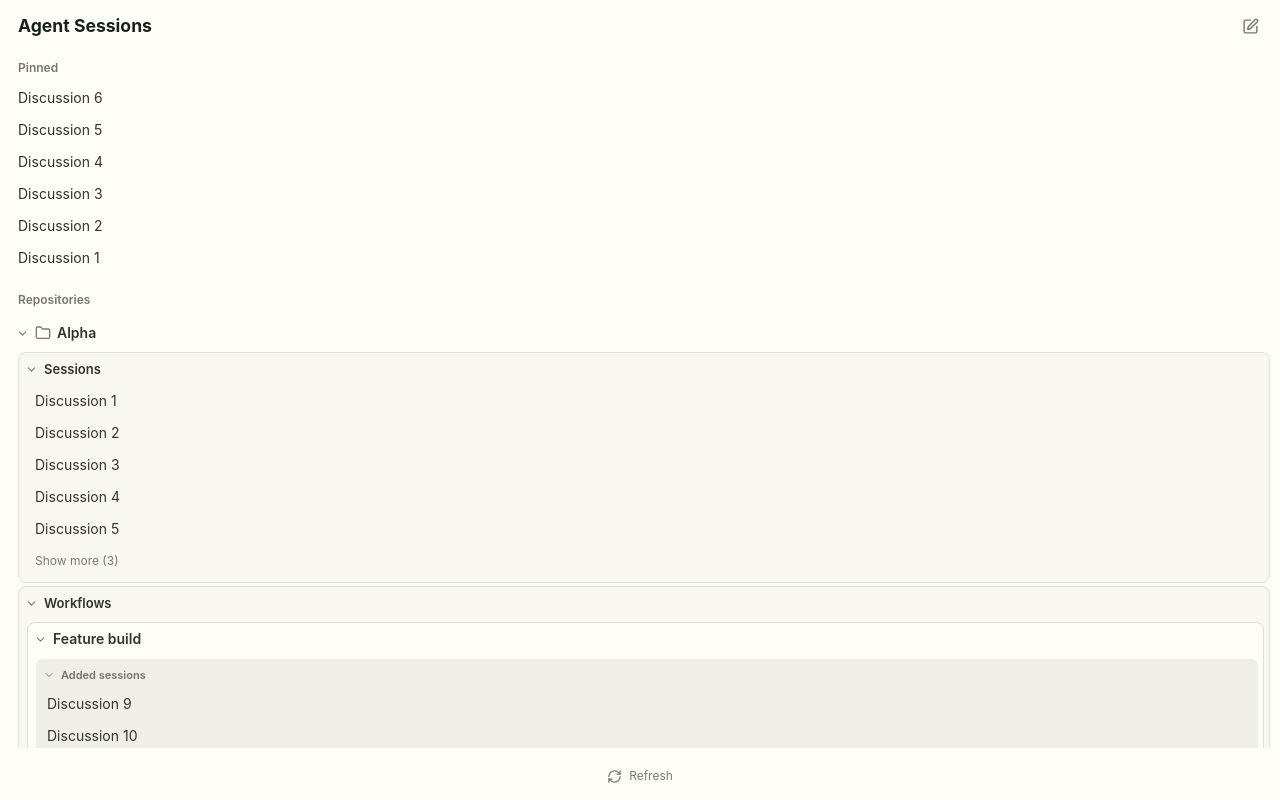
Test case: shares a five-row budget across neutral ownership groups and collapses only the nearest block
Click the list item "Discussion 9": (89, 704) top-left (47, 695), bottom-right (132, 712)
(page scrolled)
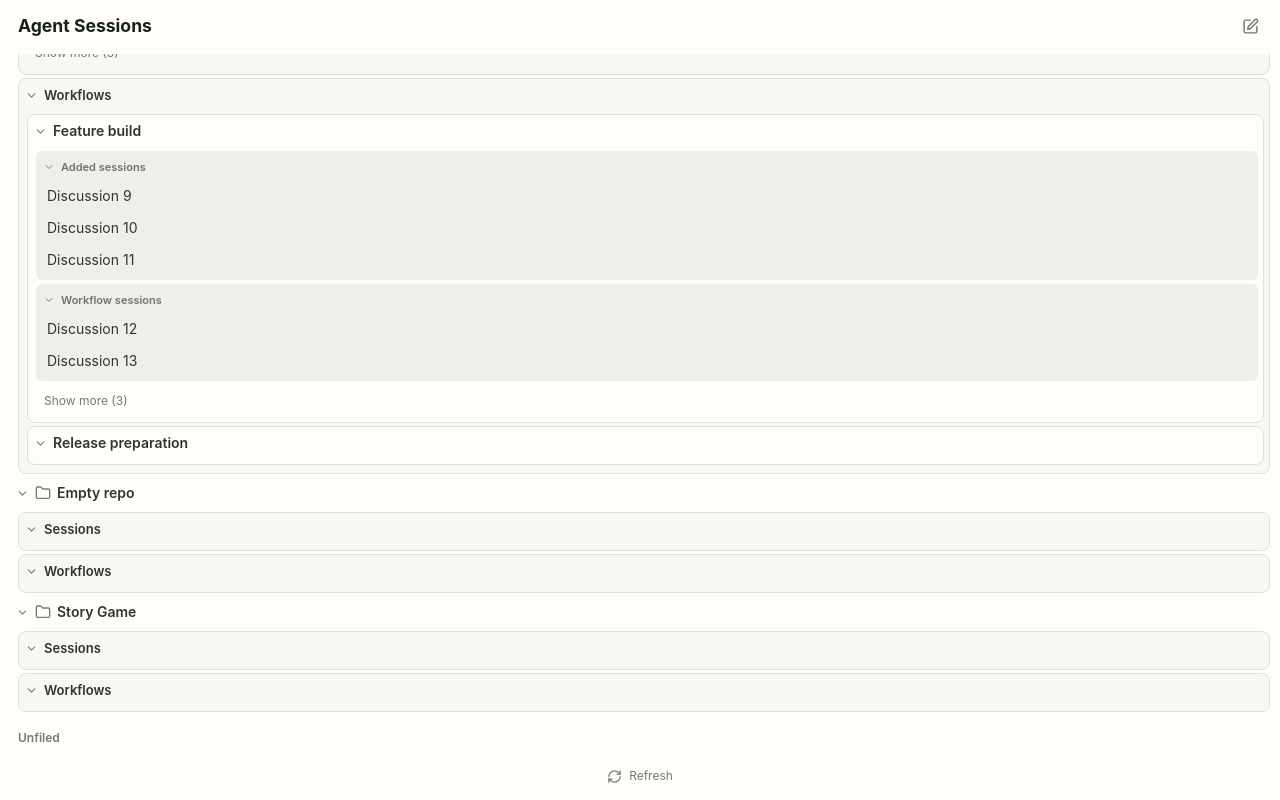
Click the list item with aria-label "Show more in Feature build": (86, 400) top-left (44, 393), bottom-right (128, 408)
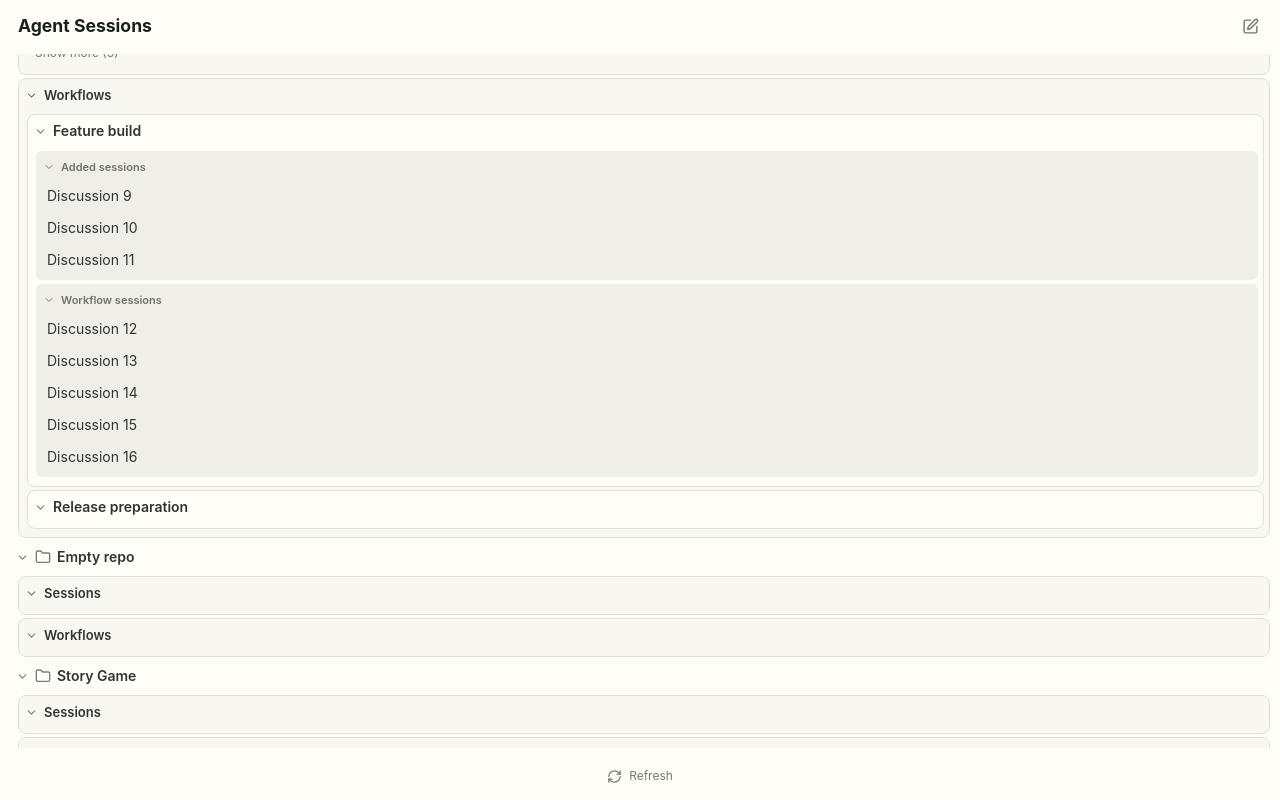
Expected: the number of list items with class "session-entry" is 8
Click the element with class "session-block-content" that starts with "Added sessions": (646, 318) top-left (28, 151), bottom-right (1263, 486)
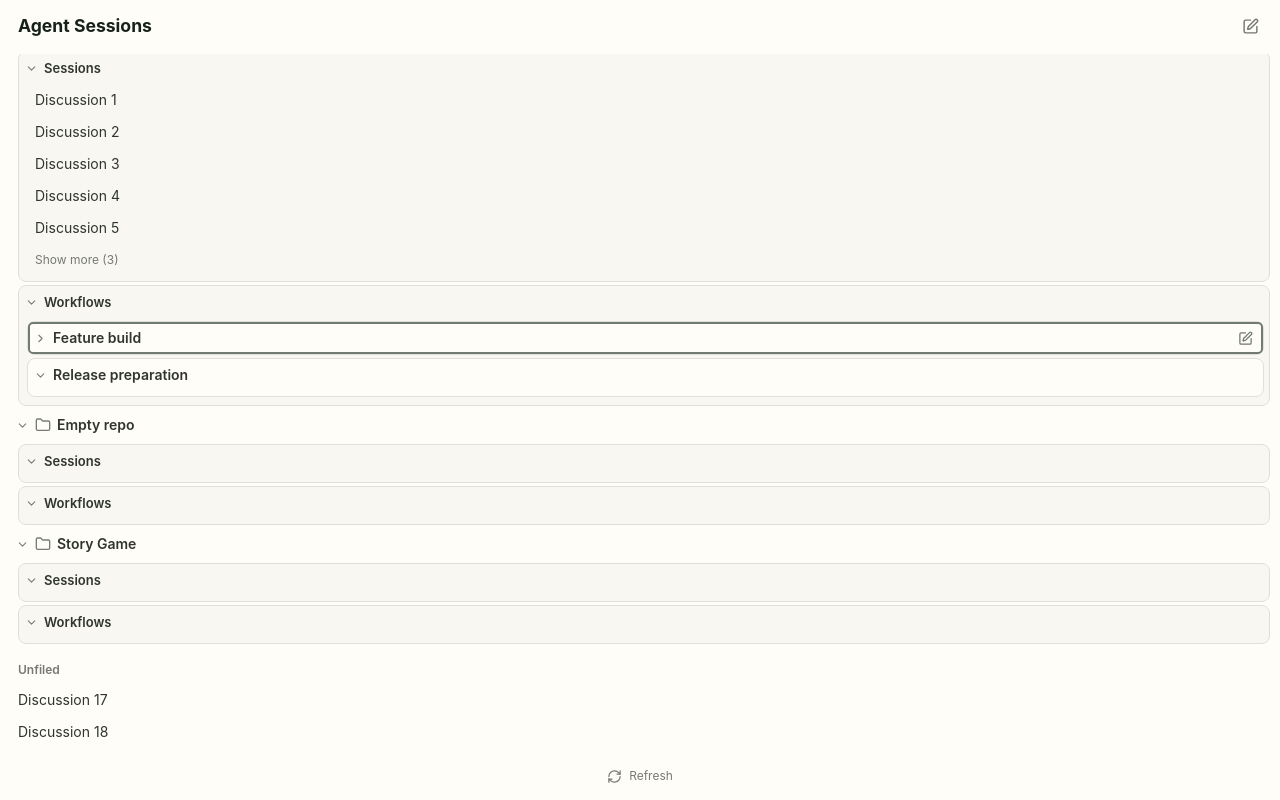
Expected: the list item "Feature build" is collapsed
Click the list item "Feature build": (97, 338) top-left (28, 322), bottom-right (1263, 354)
(page scrolled)
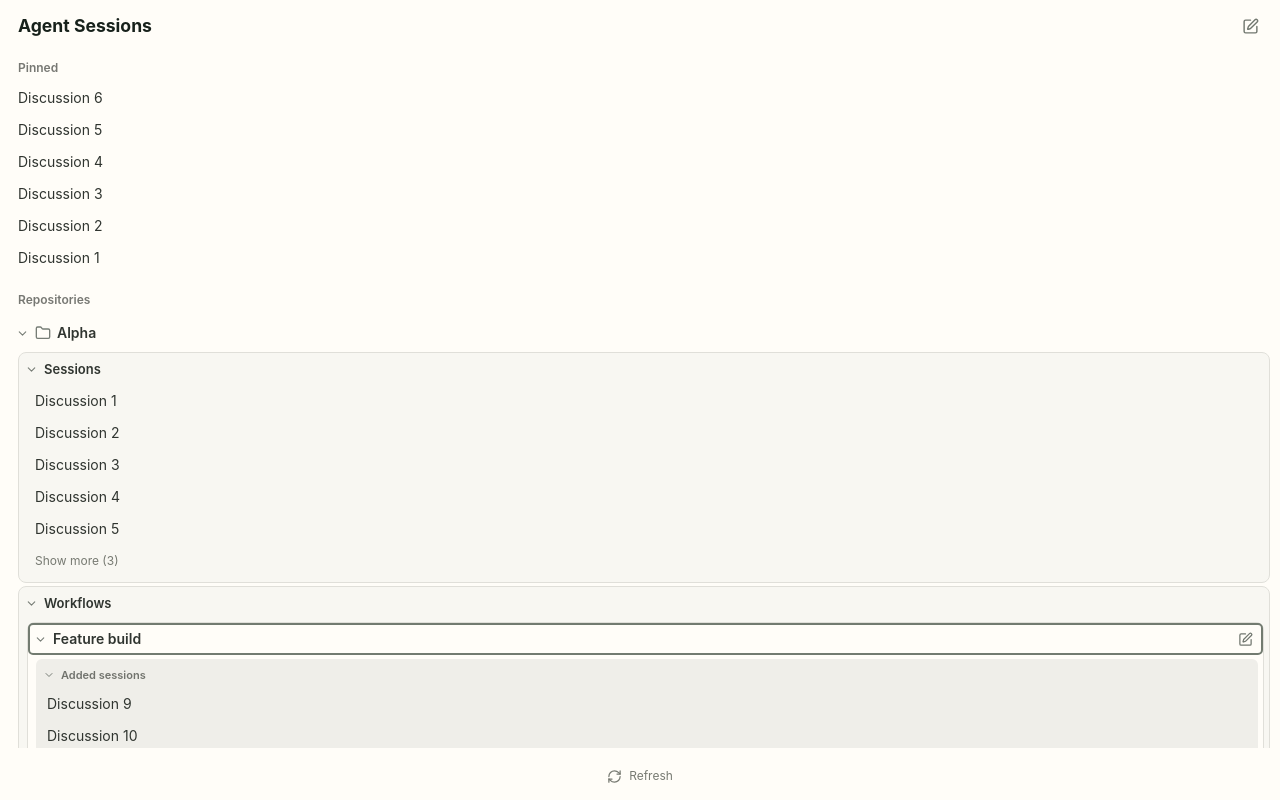
Click the list item "Sessions": (63, 369) top-left (25, 361), bottom-right (101, 377)
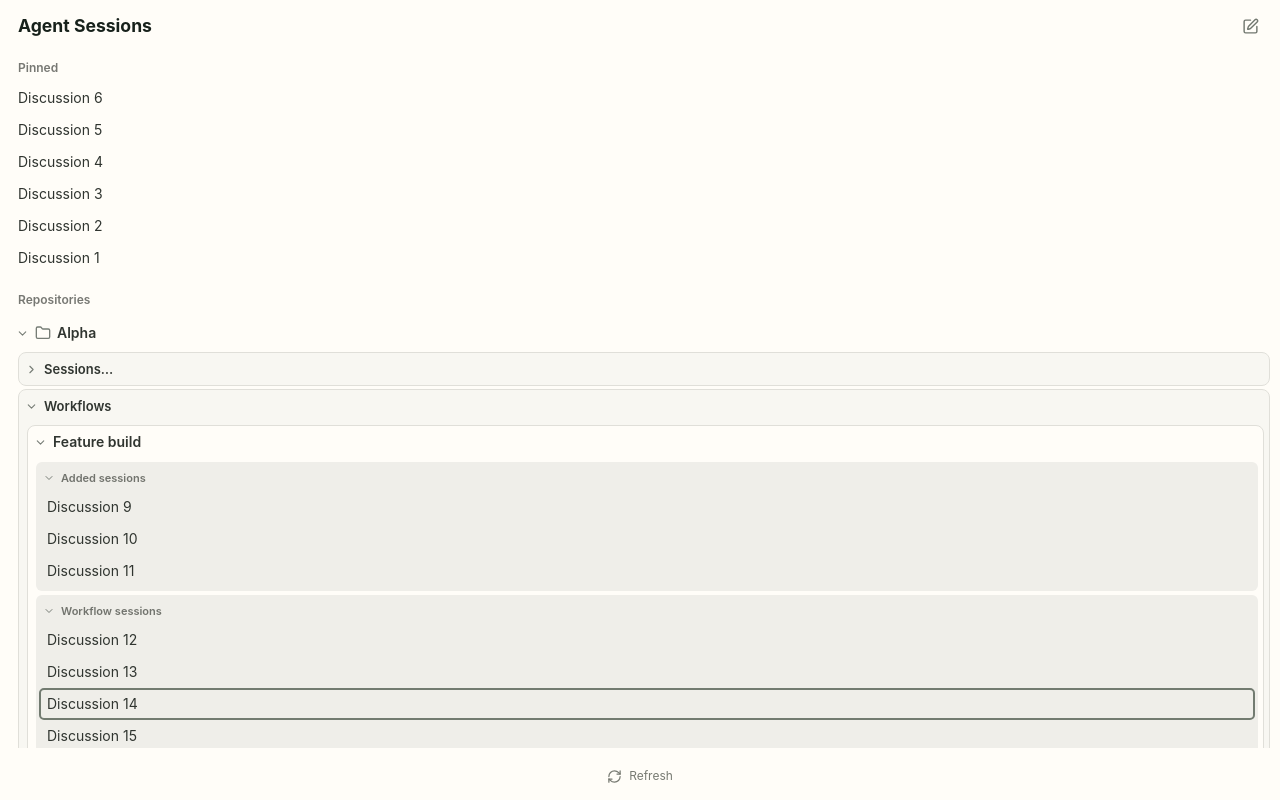
Expected: the list item "Sessions" reads "Sessions…", top-left (25, 361), bottom-right (113, 377)
